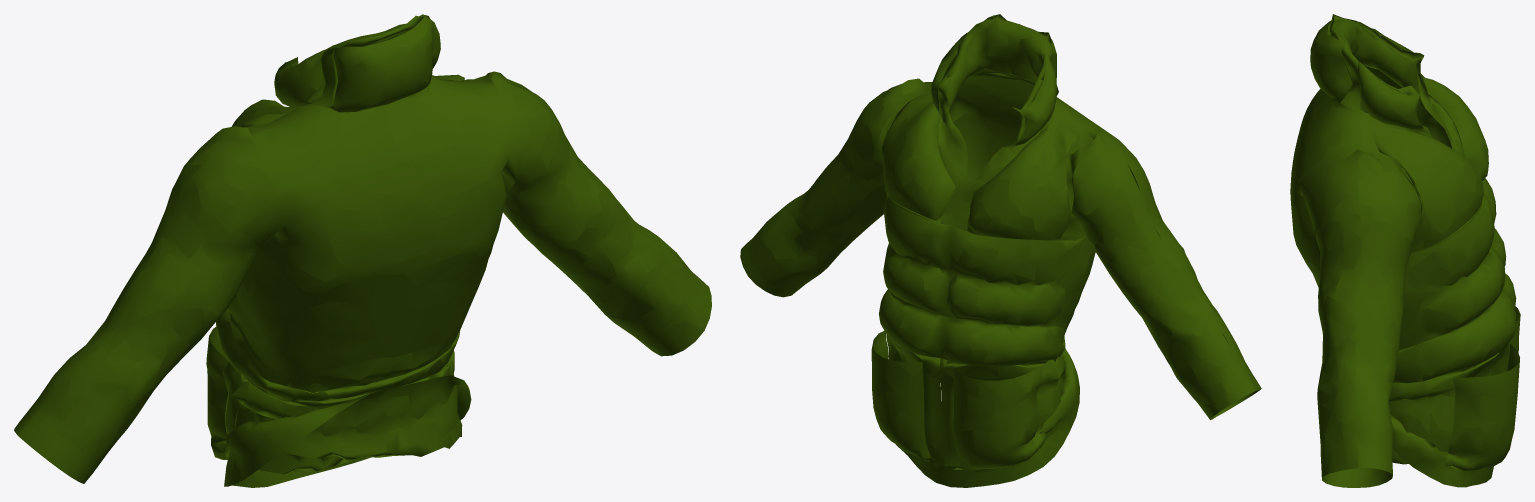
Rendered from DownJacket2.fbx.
3 renders of one model, left to right at view 1: azimuth 30°, elevation 25°; view 2: azimuth 150°, elevation 25°; view 3: azimuth 270°, elevation 25°, orthographic. The views are drawn at different scales.
Parts seen in each view (by area): view 1: Pattern2D_44503; view 2: Pattern2D_44503; view 3: Pattern2D_44503.
Boxes of the visible parts, x1,y1,x2,y2 form: Pattern2D_44503: (14, 14, 711, 487); Pattern2D_44503: (740, 14, 1261, 487); Pattern2D_44503: (1290, 14, 1520, 487).
Bounding box in the file's own units: 11.53 × 8.64 × 3.99.
